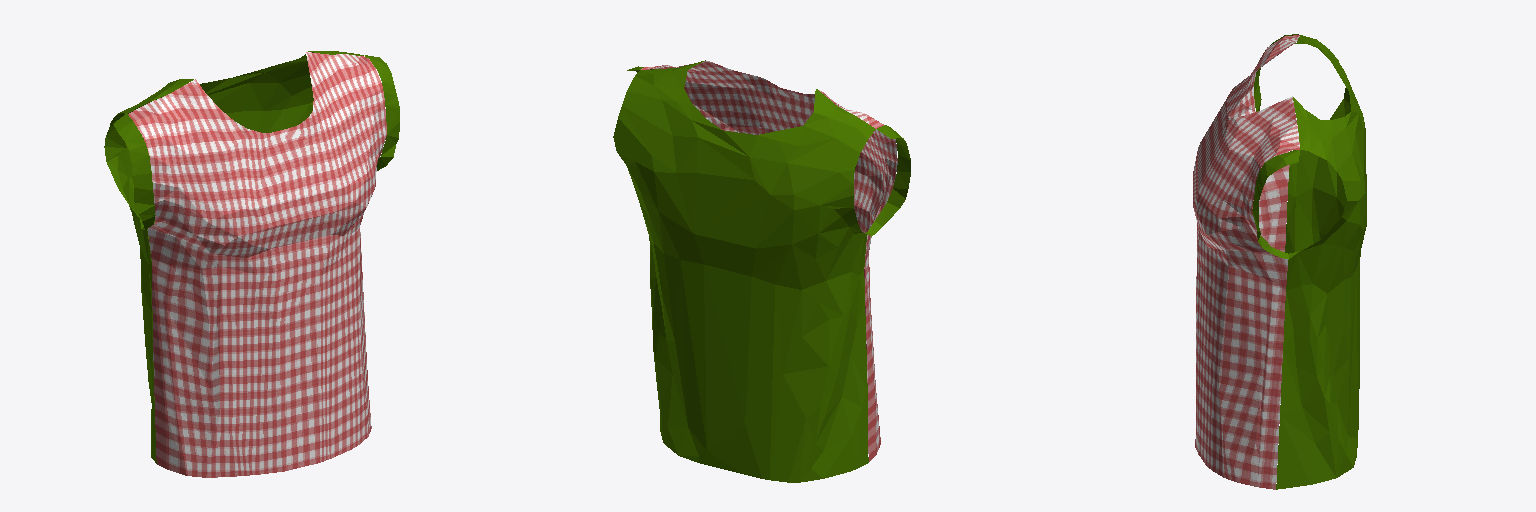
The picture shows the model from 3 angles: view 1: azimuth 30°, elevation 25°; view 2: azimuth 150°, elevation 25°; view 3: azimuth 270°, elevation 25°; orthographic projection.
Parts seen in each view (by area): view 1: T_shirt.006; view 2: T_shirt.006; view 3: T_shirt.006.
Boxes of the visible parts, x1=… form: T_shirt.006: x1=104, y1=51, x2=399, y2=477; T_shirt.006: x1=613, y1=60, x2=910, y2=482; T_shirt.006: x1=1193, y1=34, x2=1366, y2=489.
Bounding box in the file's own units: 0.2935 × 0.3892 × 0.1639.
Materials: 2 (1 with a texture image).